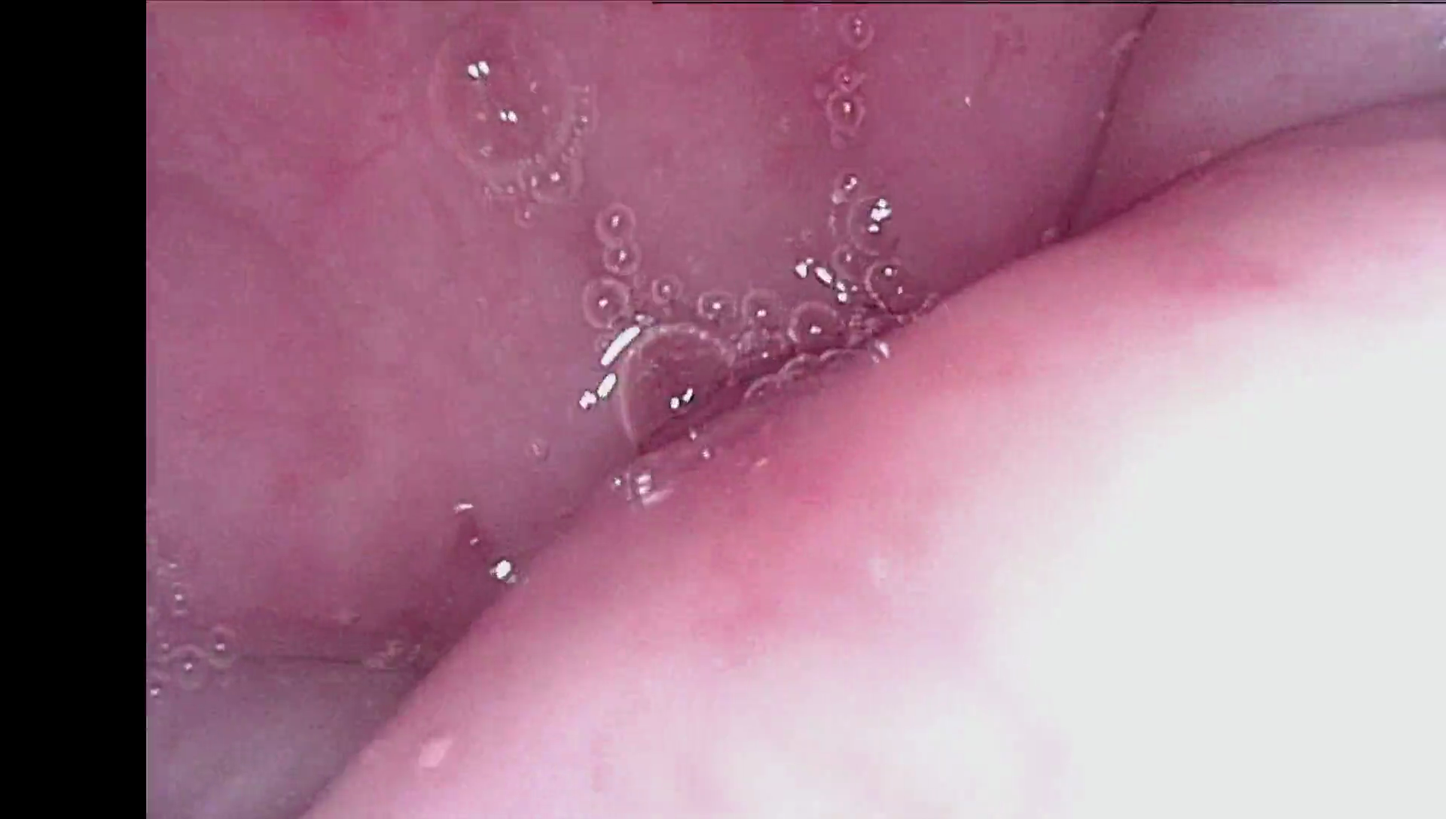close_wall: (471, 185, 1446, 819)
